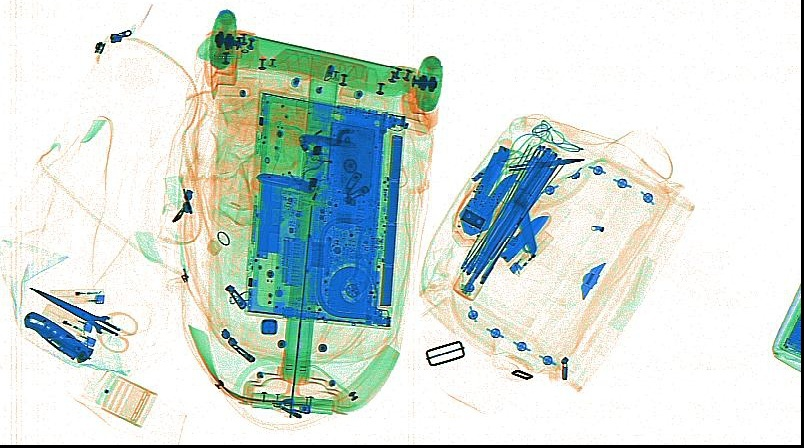knife: (23, 310, 92, 363), (499, 210, 551, 265), (472, 143, 510, 206), (509, 179, 536, 258), (475, 172, 518, 220), (254, 173, 316, 193), (298, 133, 355, 148)
lighter: (507, 228, 553, 276), (46, 316, 95, 350), (42, 302, 93, 332), (48, 288, 105, 303)
scissors: (29, 287, 138, 352), (496, 149, 585, 185)
